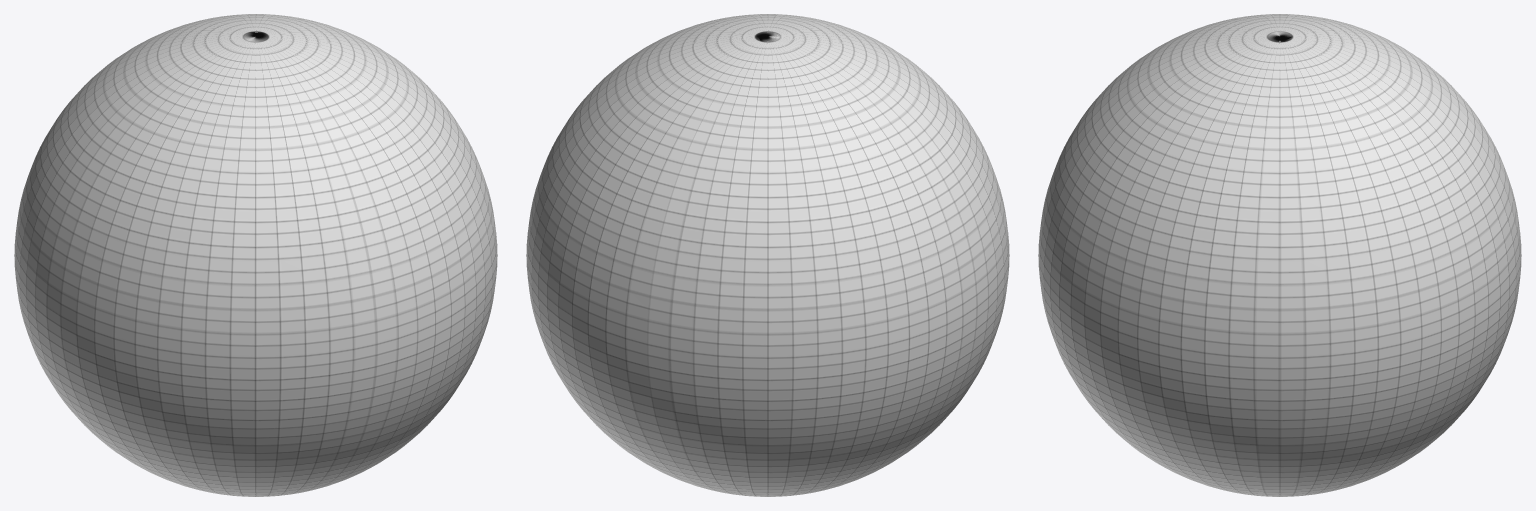
File: firstProject.obj
3 views of the same model, side by side, from view 1: azimuth 30°, elevation 25°; view 2: azimuth 150°, elevation 25°; view 3: azimuth 270°, elevation 25° (orthographic).
Parts seen in each view (by area): view 1: Sphere_Mesh; view 2: Sphere_Mesh; view 3: Sphere_Mesh.
Part boxes in pixels (<box>): Sphere_Mesh: <box>14,14,497,496</box>; Sphere_Mesh: <box>526,14,1009,496</box>; Sphere_Mesh: <box>1038,14,1521,496</box>.
Bounding box in the file's own units: 2 × 2 × 2.
